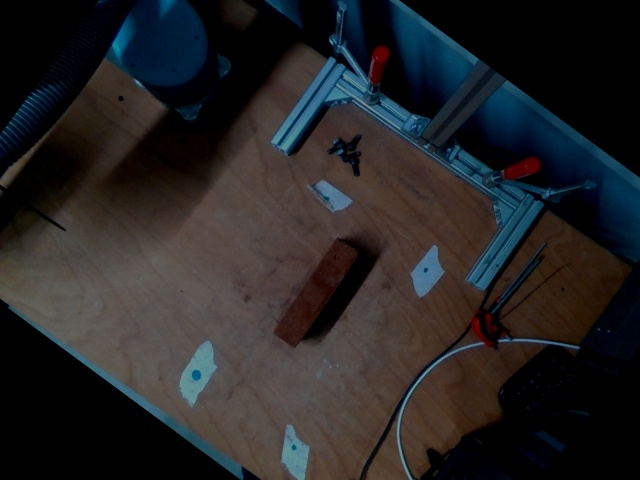brick-side: (271, 236, 361, 351)
